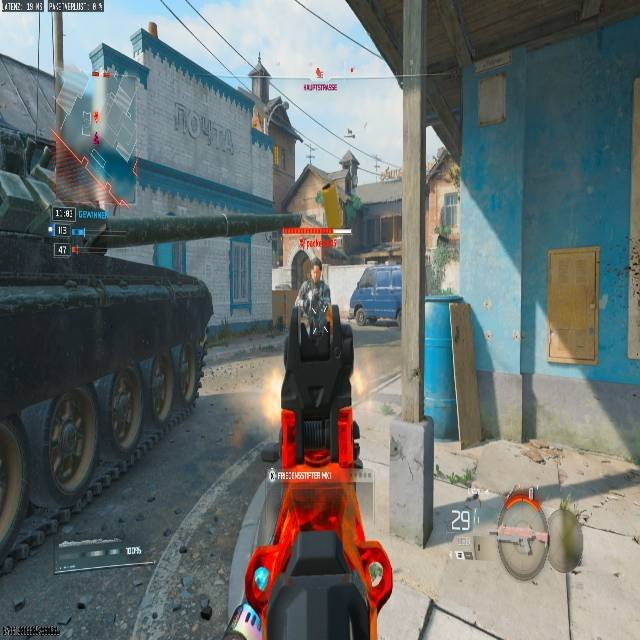player: (297, 265, 333, 335)
